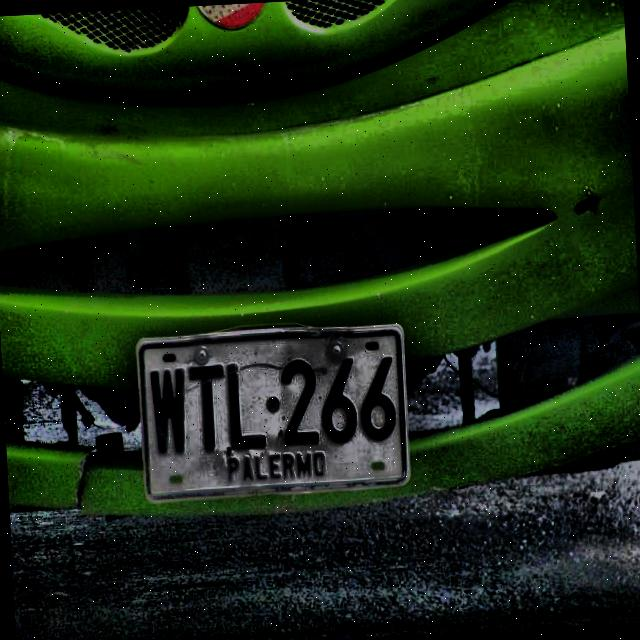plate: (140, 330, 406, 499)
